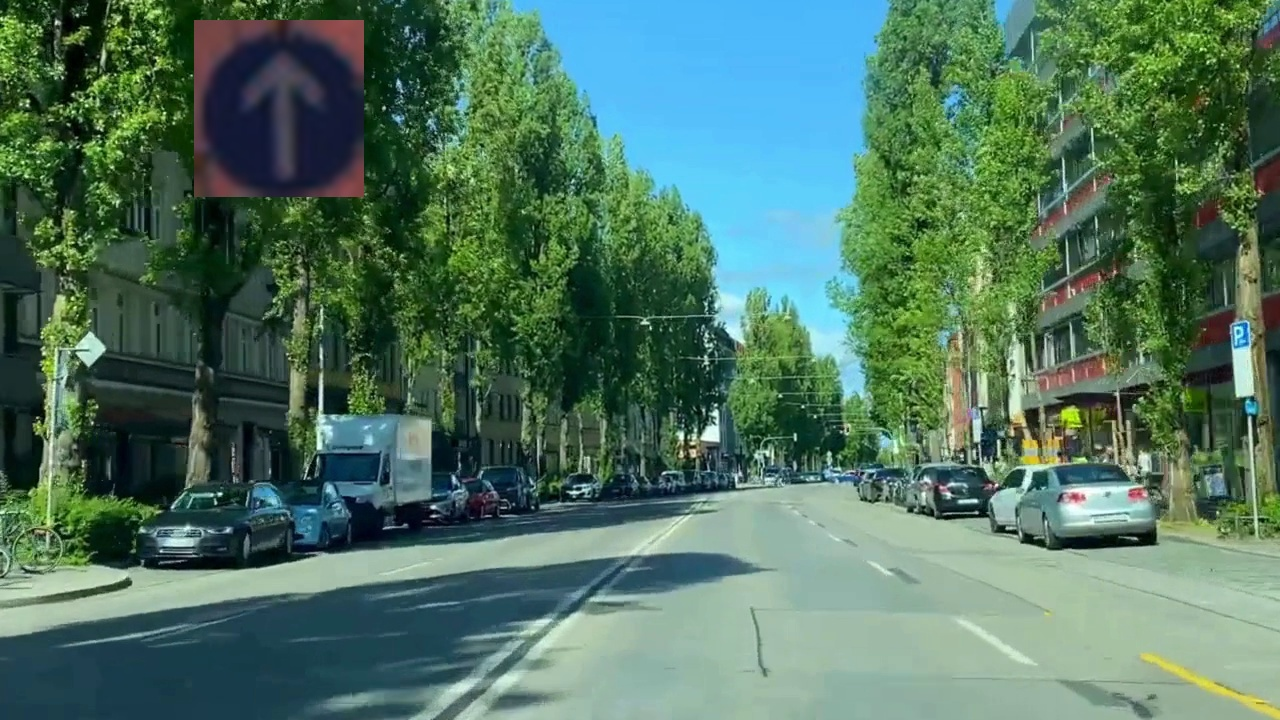Ahead only: (194, 20, 364, 197)
